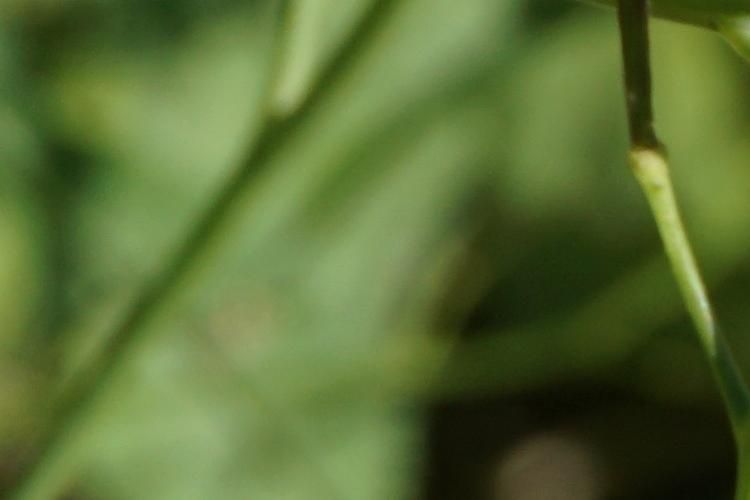pod: (604, 4, 686, 193)
